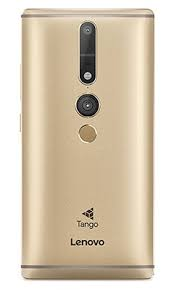lenovo: (18, 4, 157, 285)
